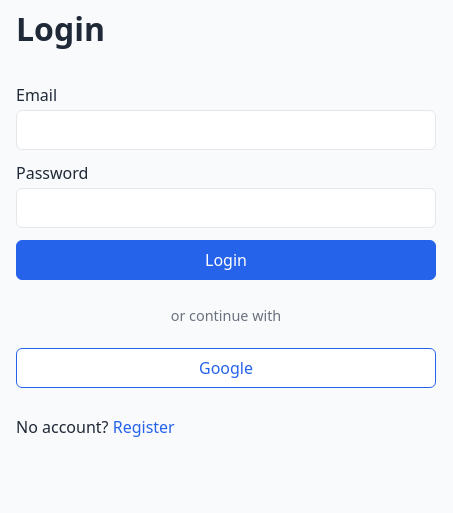
Login page › shows the API error message when login fails
Step 1. Type "jane@test.com" into the field labelled "Email" → (226, 130), box [16,110,436,150]
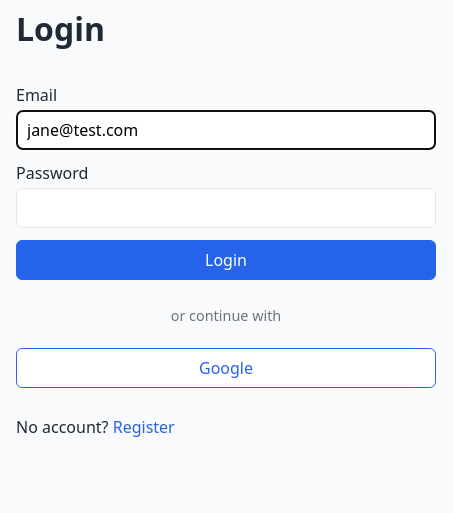
Step 2. Type "wrong" into the password field labelled "Password" → (226, 208), box [16,188,436,228]
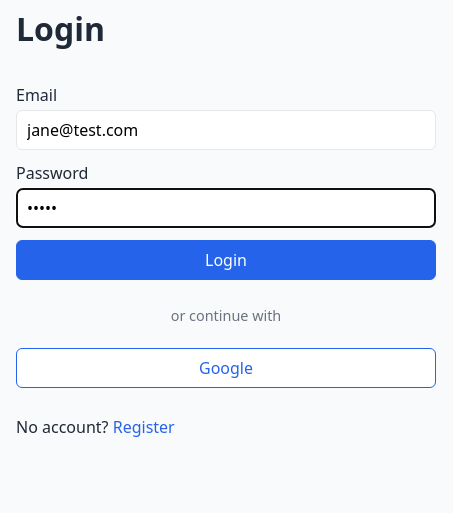
Step 3. Click the button "Login" → (226, 260), box [16,240,436,280]
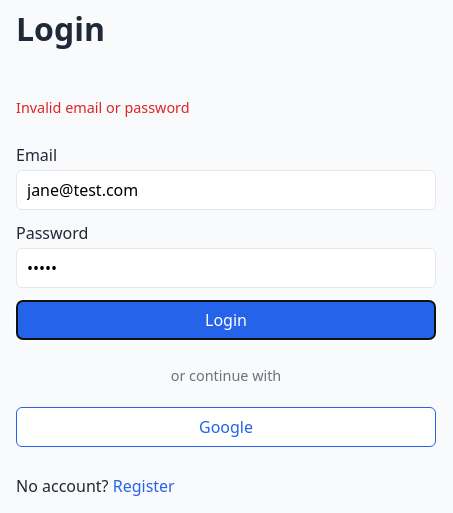
expect the text "Invalid email or password" is shown: met, box [16,98,190,117]
